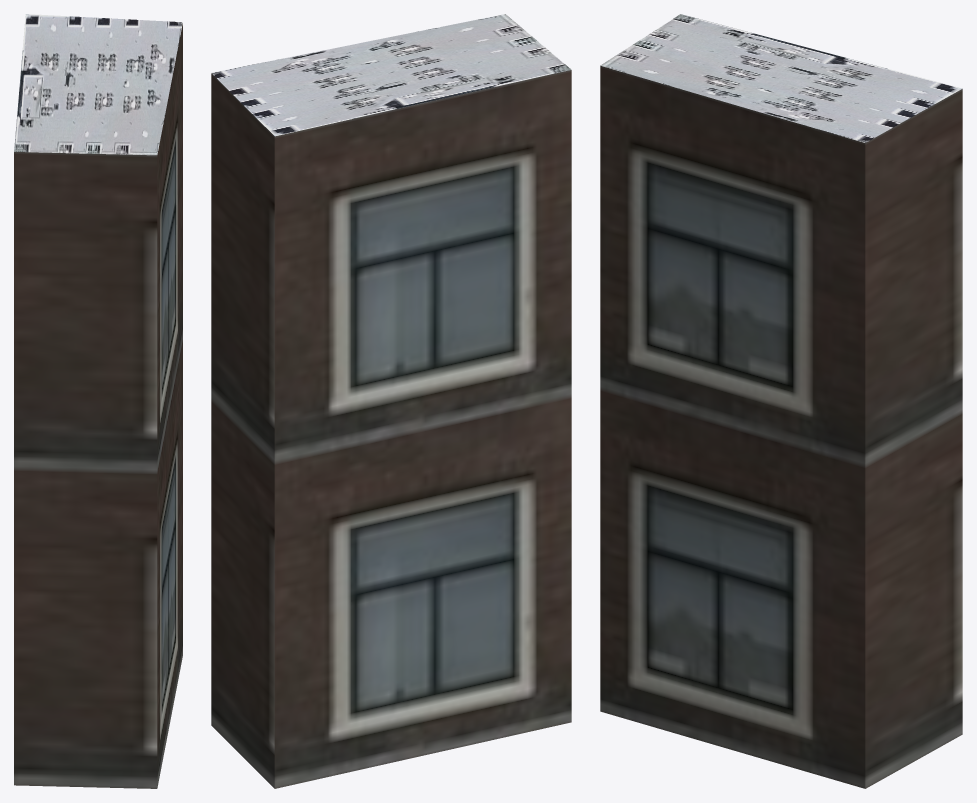
File: ResTex__3371.fbx
3 views of the same model, side by side, from view 1: azimuth 30°, elevation 25°; view 2: azimuth 150°, elevation 25°; view 3: azimuth 270°, elevation 25° (orthographic). The views are drawn at different scales.
Parts seen in each view (by area): view 1: CityEngineMaterial_16_m, CityEngineMaterial_15_m; view 2: CityEngineMaterial_16_m, CityEngineMaterial_15_m; view 3: CityEngineMaterial_16_m, CityEngineMaterial_15_m.
Part boxes in pixels (bbox=[...]): CityEngineMaterial_16_m: bbox=[14, 23, 182, 788]; CityEngineMaterial_15_m: bbox=[14, 14, 182, 155]; CityEngineMaterial_16_m: bbox=[211, 70, 571, 788]; CityEngineMaterial_15_m: bbox=[211, 14, 571, 136]; CityEngineMaterial_16_m: bbox=[600, 65, 962, 788]; CityEngineMaterial_15_m: bbox=[600, 14, 962, 142].
Size of the model in its own units: 2.57 by 6 by 3.05.
2 materials, 2 textured.
